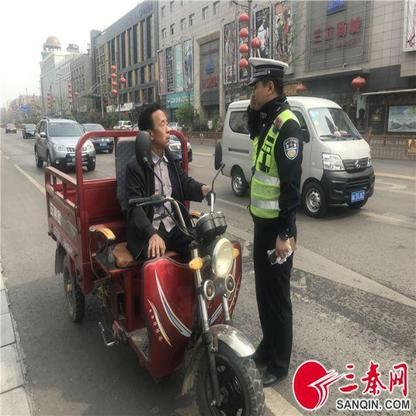target: (47, 104, 265, 413)
